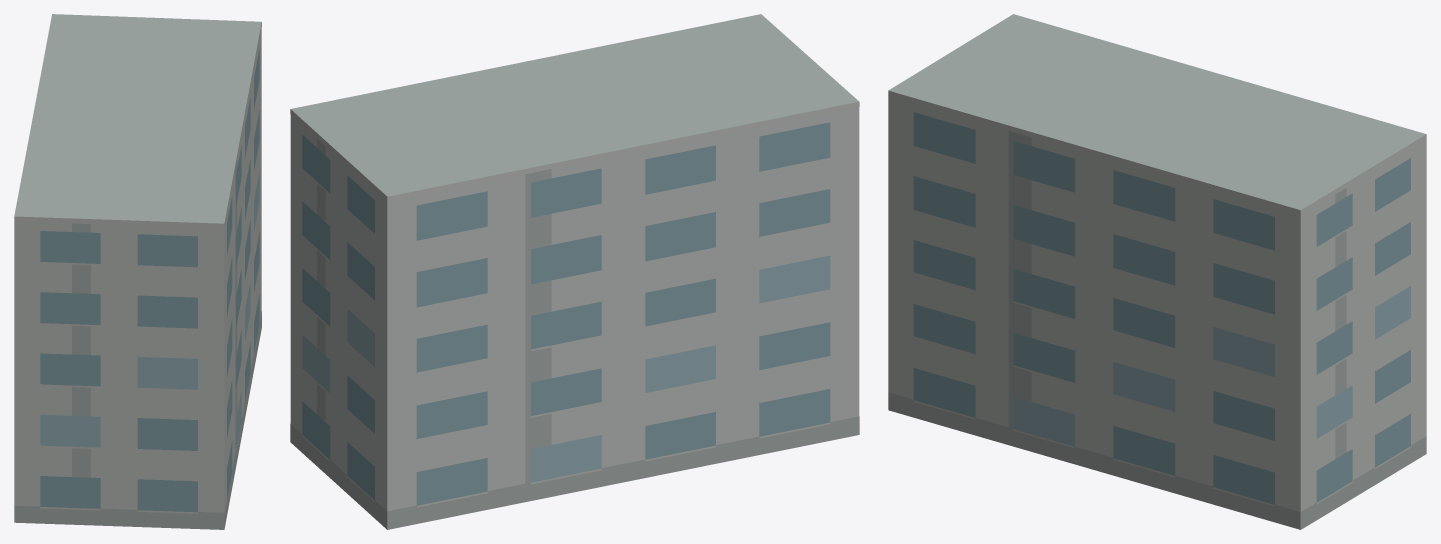
Rendered from residential-12f47ba8-c342-4ba0-816c-df05011de0b7.glb.
The picture shows the model from 3 angles, left to right: view 1: azimuth 30°, elevation 25°; view 2: azimuth 150°, elevation 25°; view 3: azimuth 270°, elevation 25°; orthographic projection. The views are drawn at different scales.
Parts seen in each view (by area): view 1: residential-12f47ba8-c342-4ba0-816c-df05011de0b7.tmp; view 2: residential-12f47ba8-c342-4ba0-816c-df05011de0b7.tmp; view 3: residential-12f47ba8-c342-4ba0-816c-df05011de0b7.tmp.
Boxes of the visible parts, x1=… form: residential-12f47ba8-c342-4ba0-816c-df05011de0b7.tmp: x1=14, y1=14, x2=261, y2=529; residential-12f47ba8-c342-4ba0-816c-df05011de0b7.tmp: x1=290, y1=14, x2=859, y2=529; residential-12f47ba8-c342-4ba0-816c-df05011de0b7.tmp: x1=888, y1=14, x2=1426, y2=529.
Bounding box in the file's own units: 20.08 × 15.25 × 23.29.
